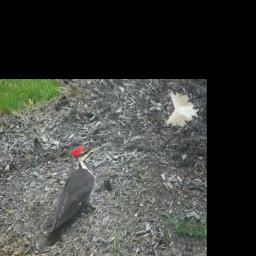Woodpecker: (41, 135, 110, 255)
